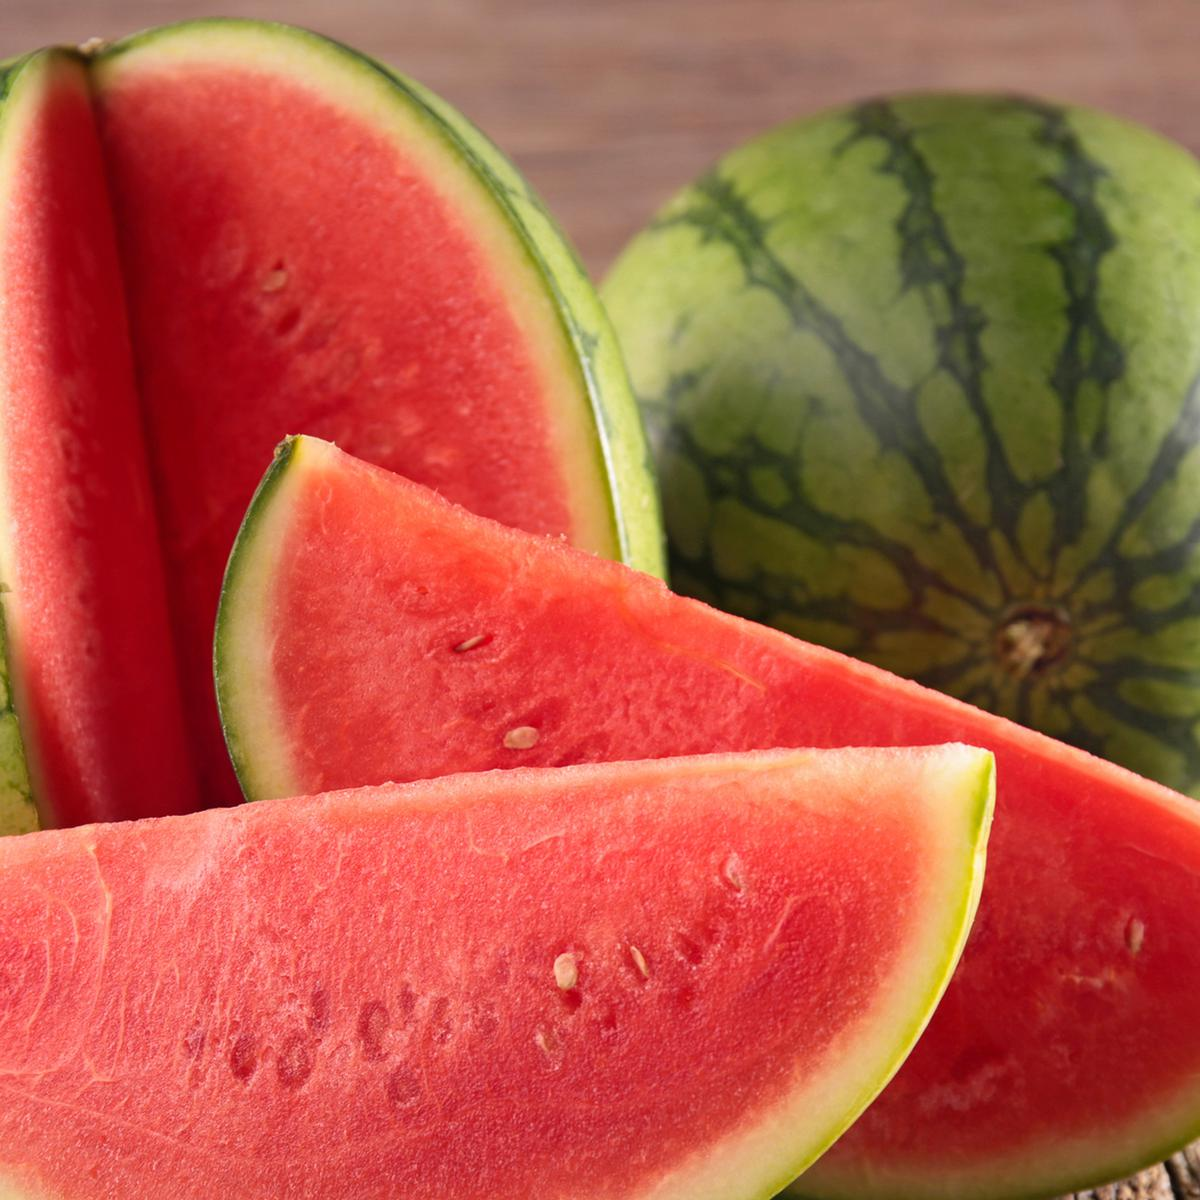Semangka: (185, 437, 1200, 1199), (30, 738, 1003, 1200)
